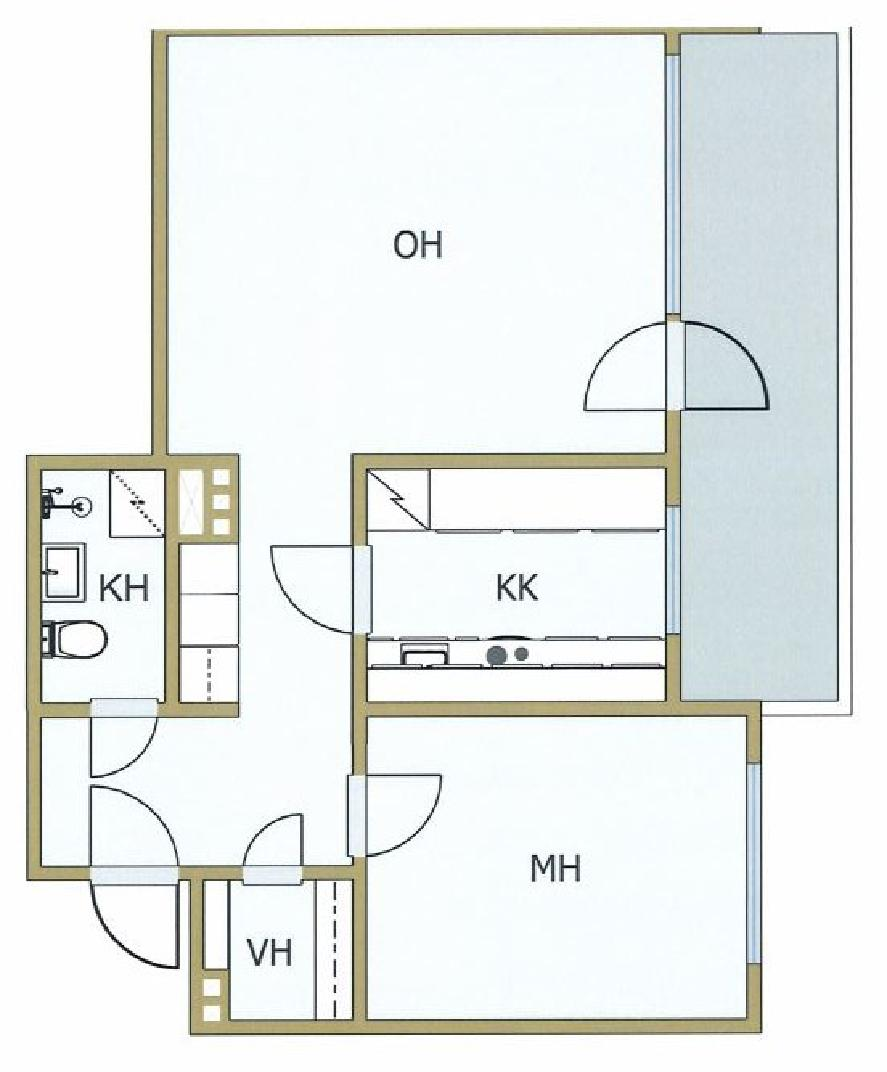door: (585, 316, 774, 428), (86, 784, 187, 976), (267, 541, 380, 638), (347, 772, 453, 855), (88, 695, 160, 782), (246, 807, 307, 890)
window: (667, 54, 685, 322), (746, 762, 766, 970), (664, 503, 682, 640)
zone: (166, 35, 667, 451), (42, 451, 356, 861), (367, 715, 747, 1017), (676, 38, 835, 697), (362, 472, 664, 697), (43, 467, 164, 702), (209, 878, 348, 1018)
